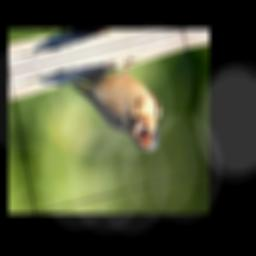Swallow: (66, 51, 170, 168)
